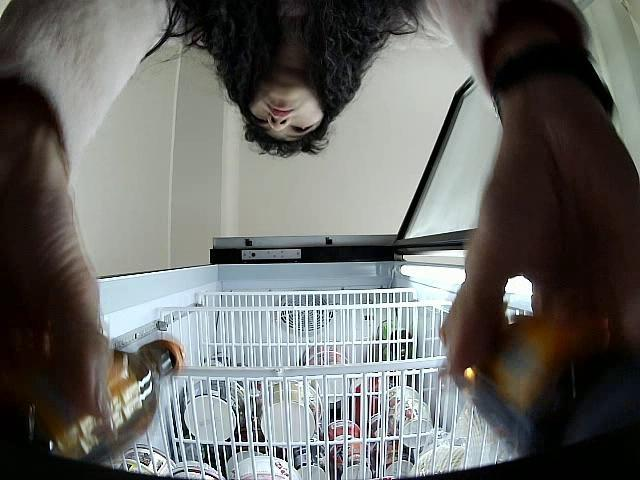17_vita500: (440, 312, 640, 462), (34, 339, 188, 466)
